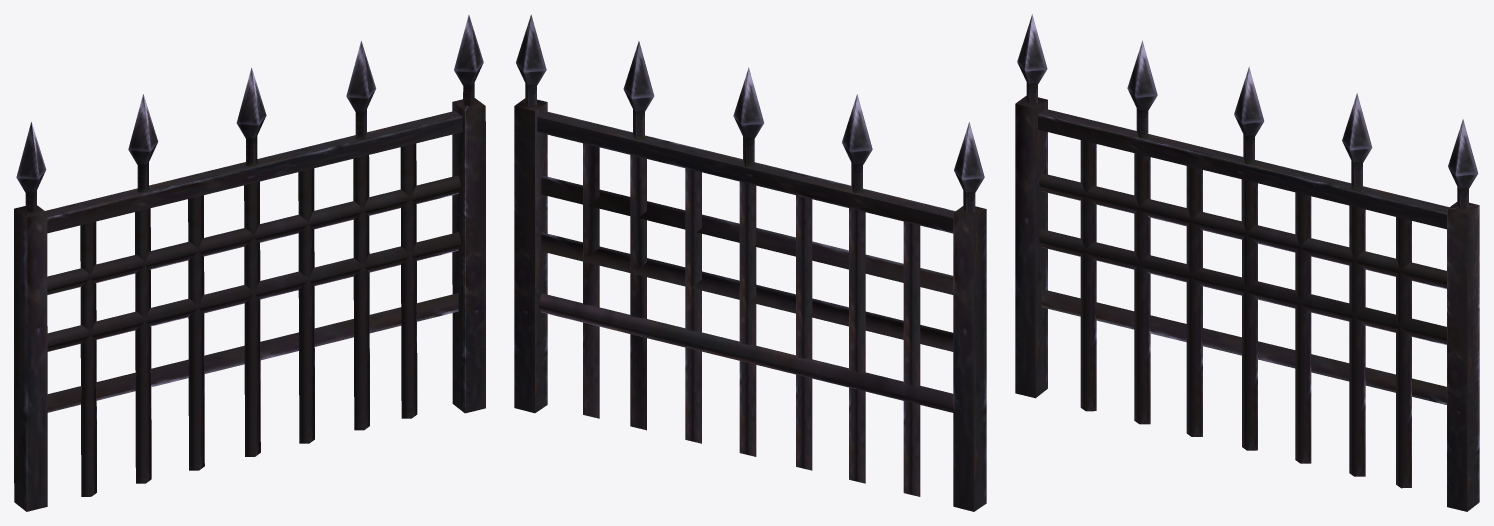
Rendered from tlfb2_jinshu4.FBX.
3 views of the same model, side by side, from view 1: azimuth 30°, elevation 25°; view 2: azimuth 150°, elevation 25°; view 3: azimuth 330°, elevation 25° (orthographic).
Parts seen in each view (by area): view 1: tlfb2_jinshu4; view 2: tlfb2_jinshu4; view 3: tlfb2_jinshu4.
Boxes of the visible parts, x1,y1,x2,y2 form: tlfb2_jinshu4: (14,14,485,511); tlfb2_jinshu4: (514,14,986,511); tlfb2_jinshu4: (1015,14,1479,511).
Size of the model in its own units: 434 by 348 by 24.07.
